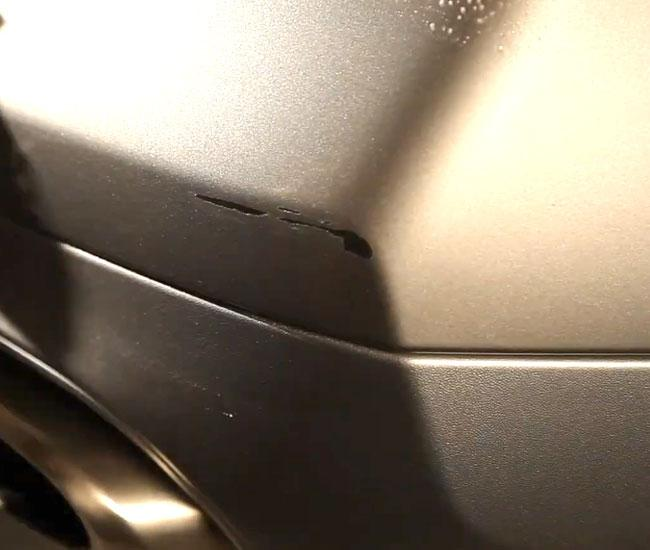scratch: (173, 185, 397, 277)
